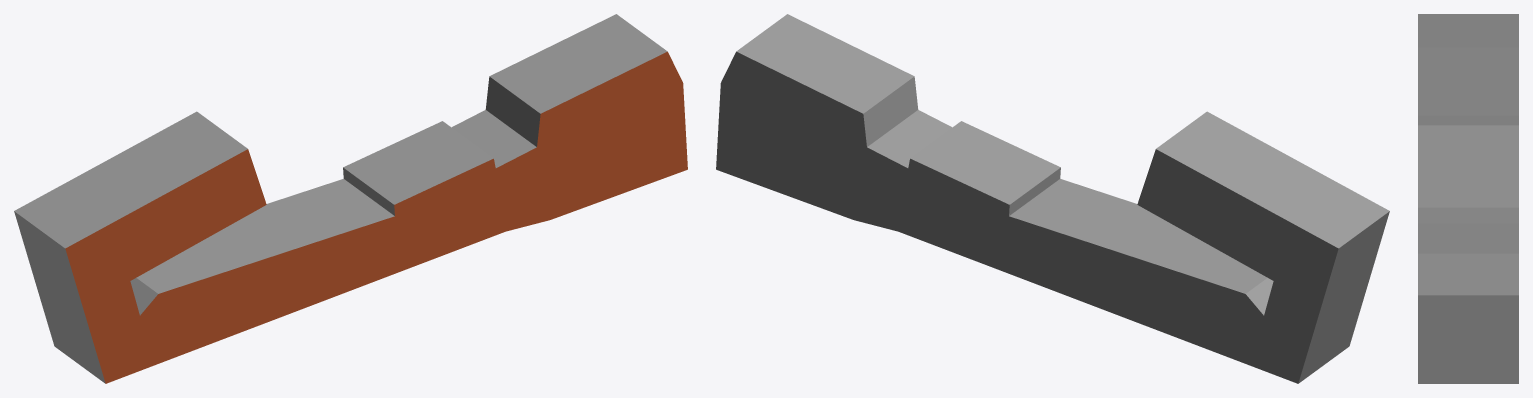
File: construction_4396_assumed_A_Casa_h6m.obj
The picture shows the model from 3 angles, left to right: view 1: azimuth 30°, elevation 25°; view 2: azimuth 150°, elevation 25°; view 3: azimuth 270°, elevation 25°; orthographic projection.
Parts seen in each view (by area): view 1: construction_4396_assumed_A_Casa; view 2: construction_4396_assumed_A_Casa; view 3: construction_4396_assumed_A_Casa.
Boxes of the visible parts, <box> form: construction_4396_assumed_A_Casa: <box>14,14,687,383</box>; construction_4396_assumed_A_Casa: <box>716,14,1389,383</box>; construction_4396_assumed_A_Casa: <box>1418,14,1518,383</box>.
Bounding box in the file's own units: 42.06 × 12.93 × 6.
